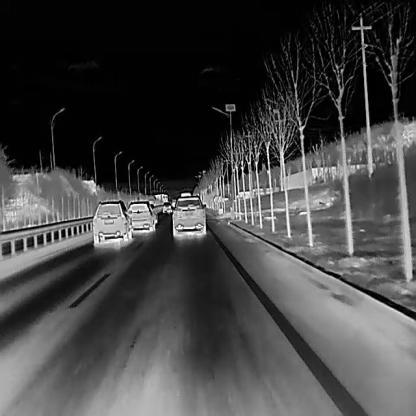car: (91, 198, 133, 245), (169, 193, 205, 236), (125, 200, 155, 232), (161, 201, 172, 213)
